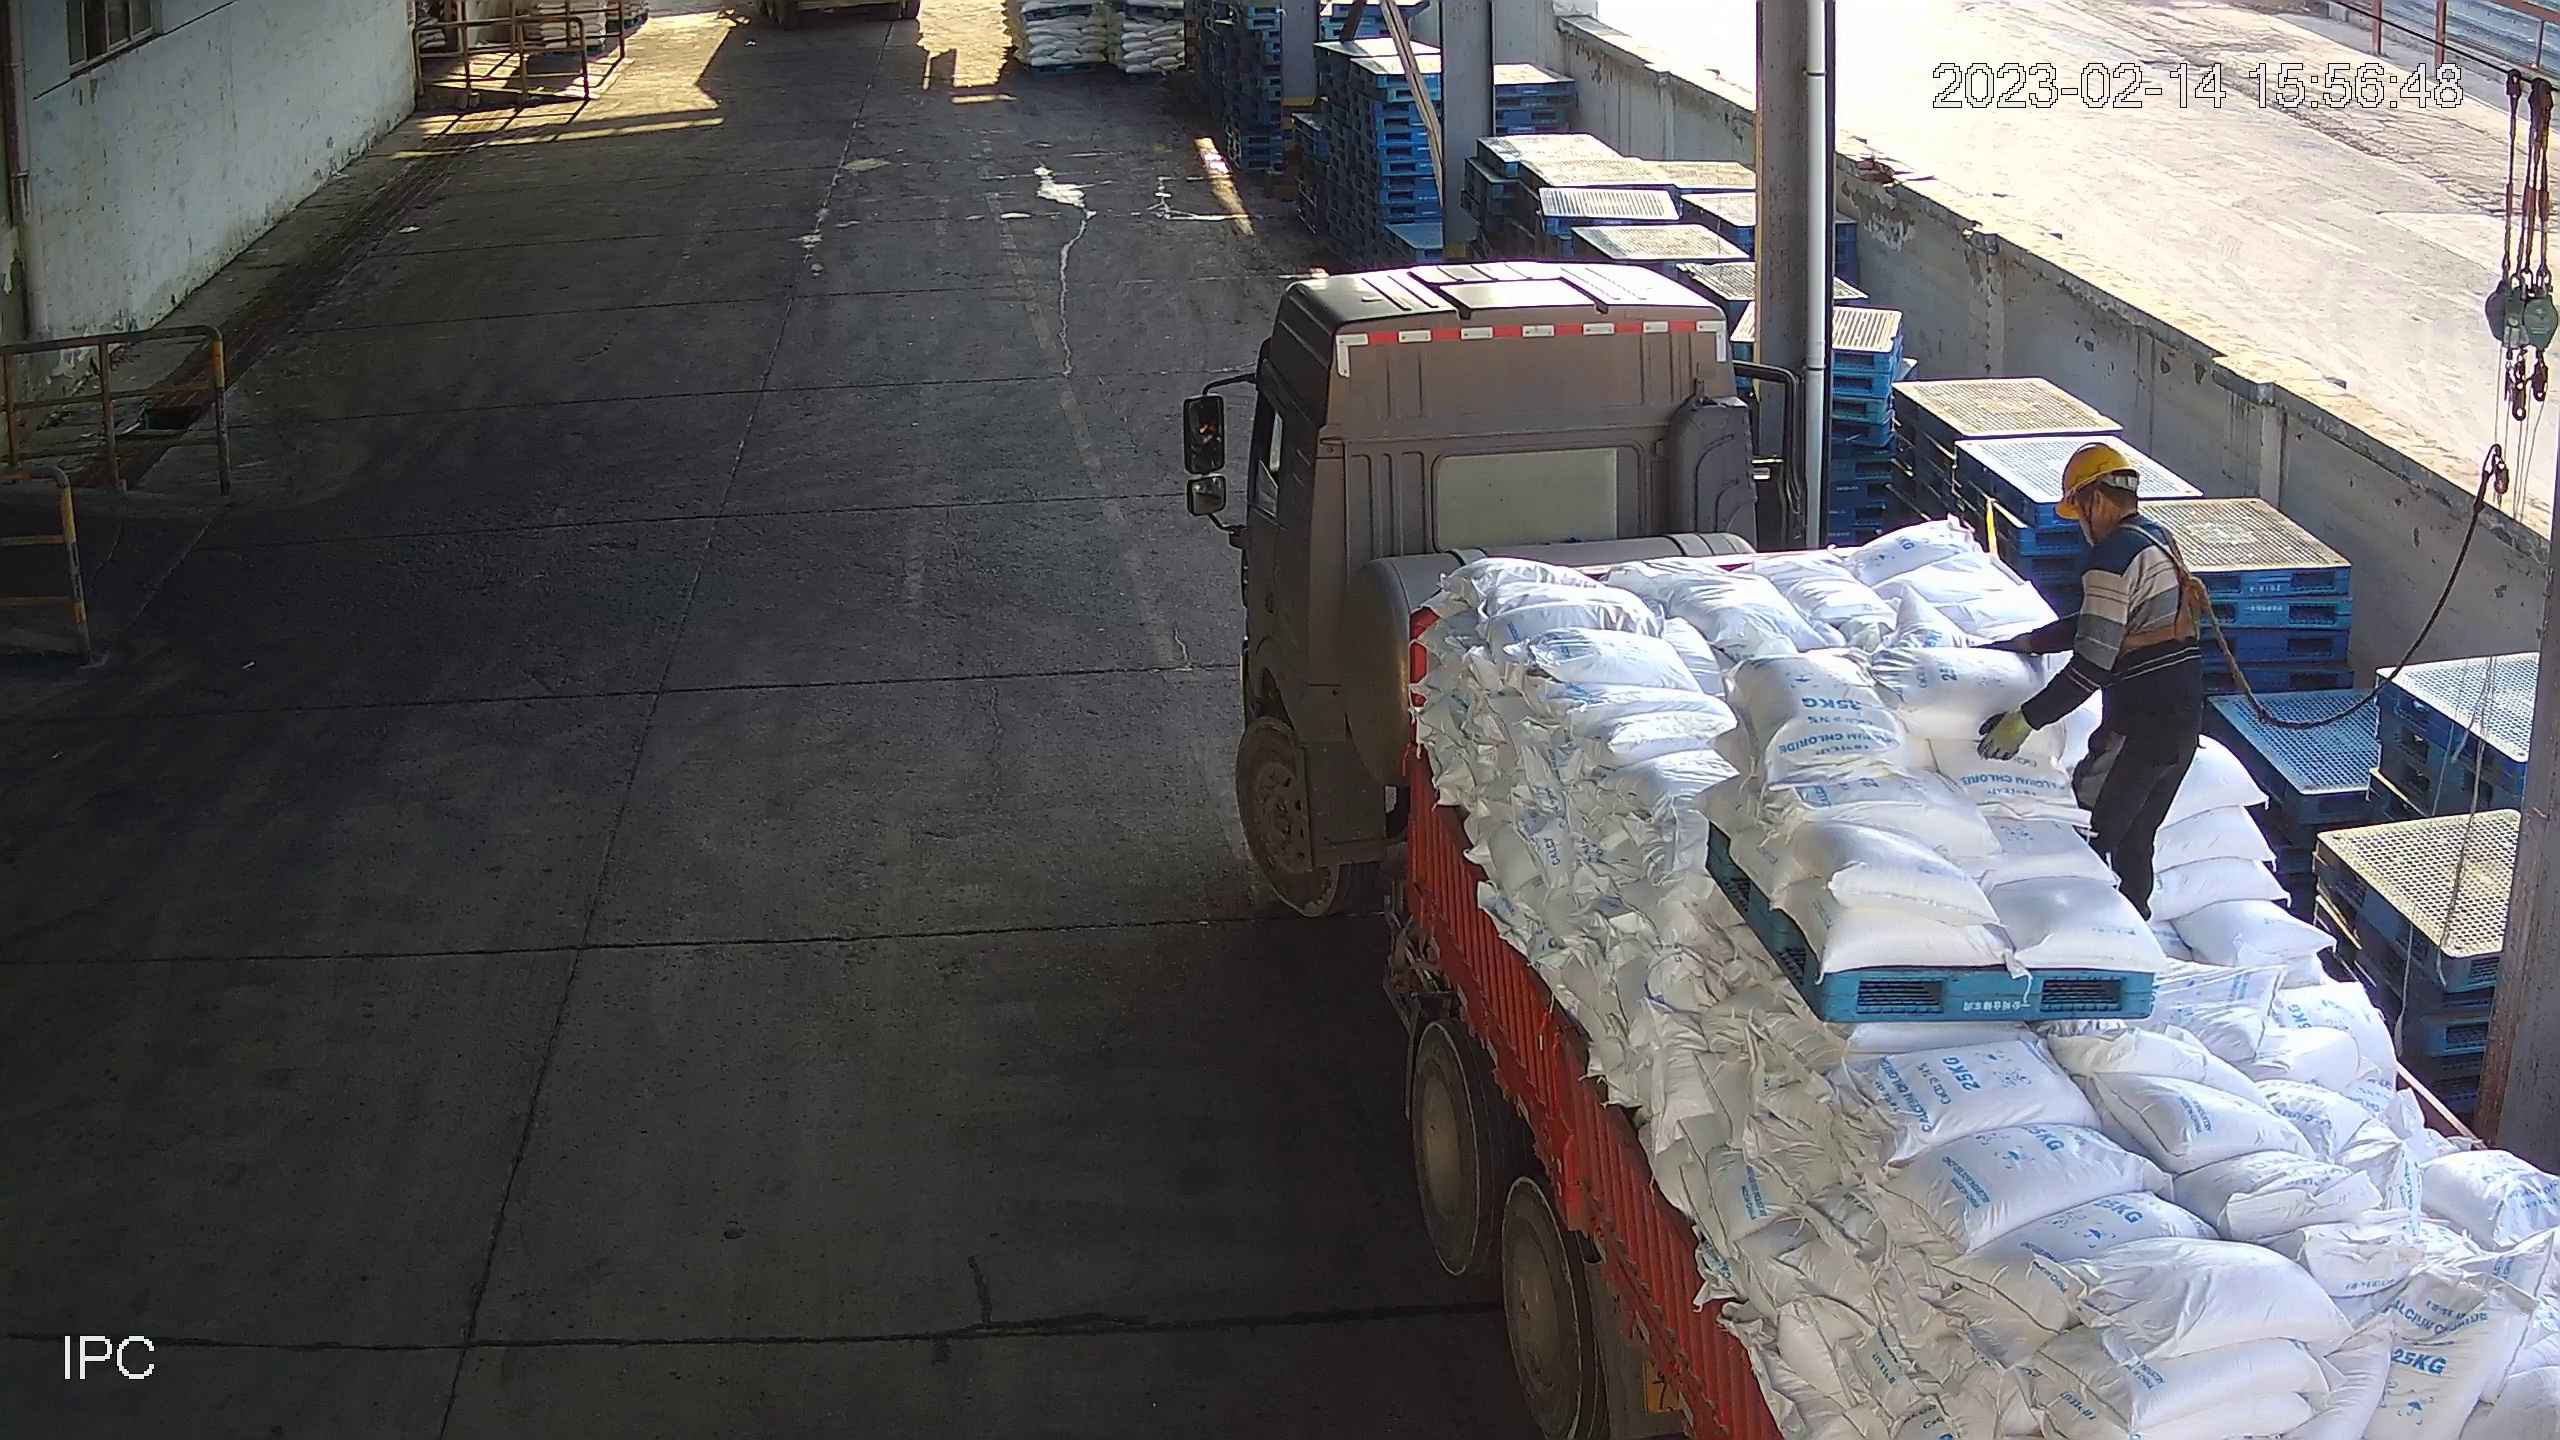belt: (2107, 522, 2219, 650)
head: (2054, 442, 2189, 588)
helmet: (2052, 442, 2142, 521)
people: (1975, 441, 2210, 919)
truck: (1223, 257, 2560, 1440)
